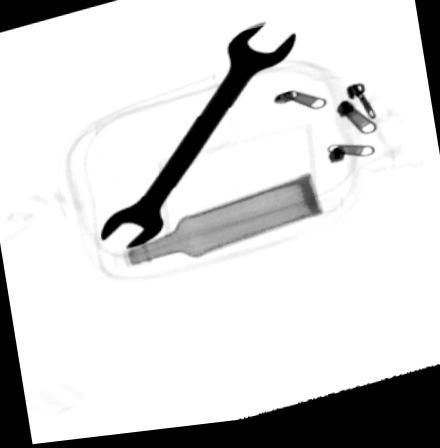Wrench: (100, 29, 298, 252)
